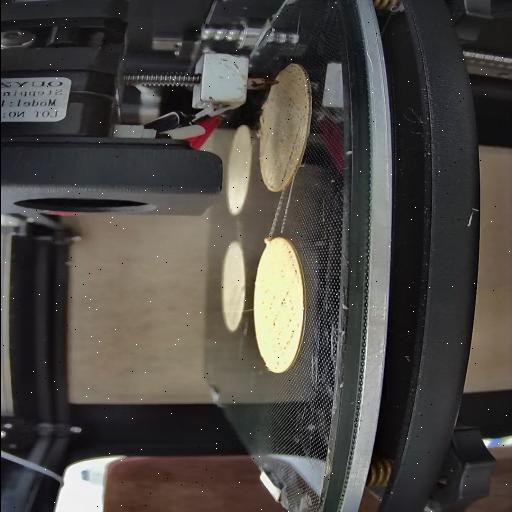under_extrusion: (273, 66, 307, 192), (261, 282, 297, 368), (278, 246, 302, 278)
